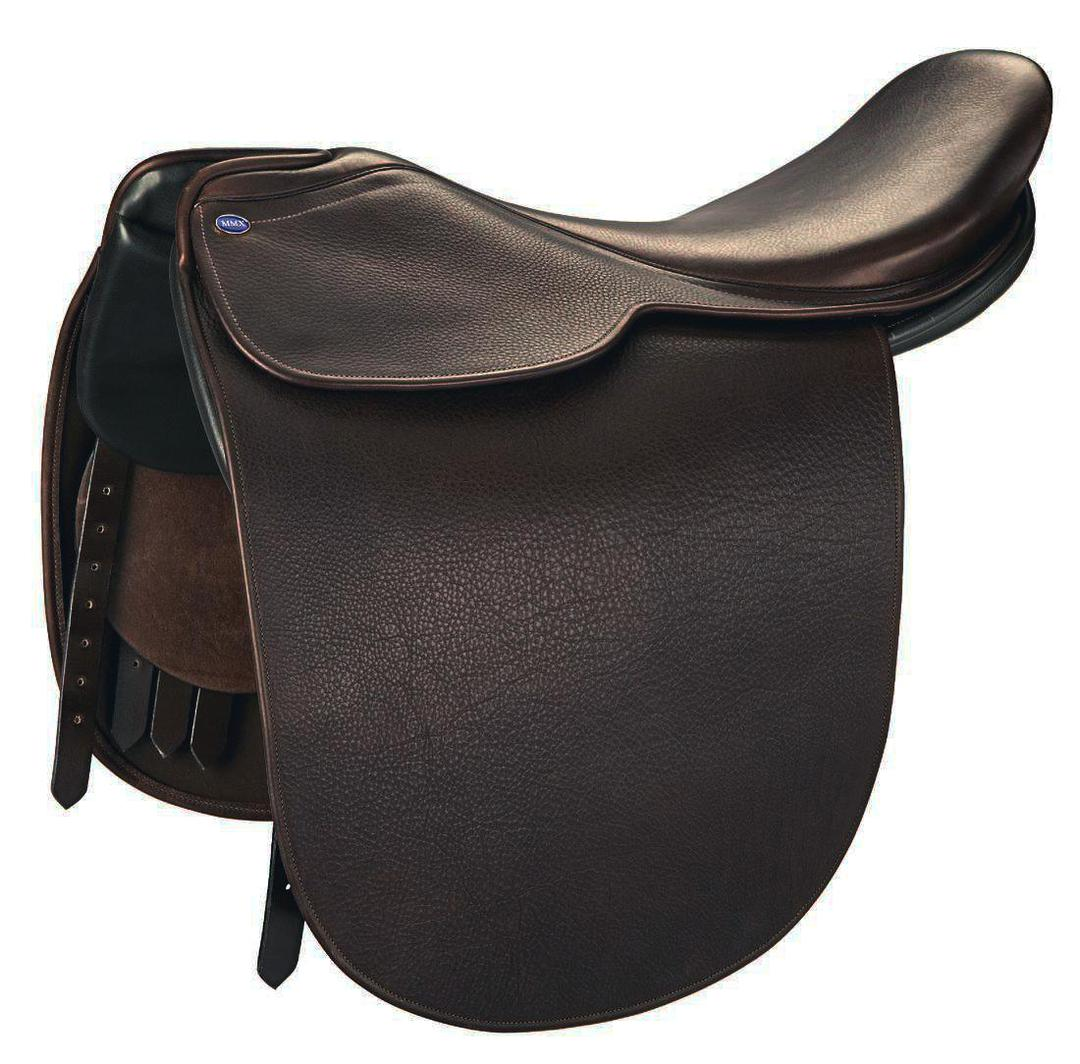saddle: (39, 114, 1054, 837), (103, 114, 1054, 837)
